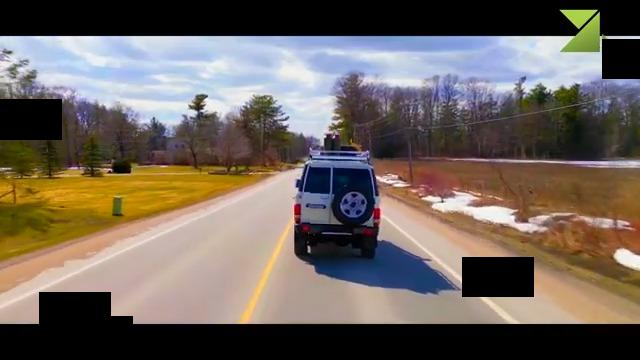MIL_HMMWV: (294, 148, 383, 259)
